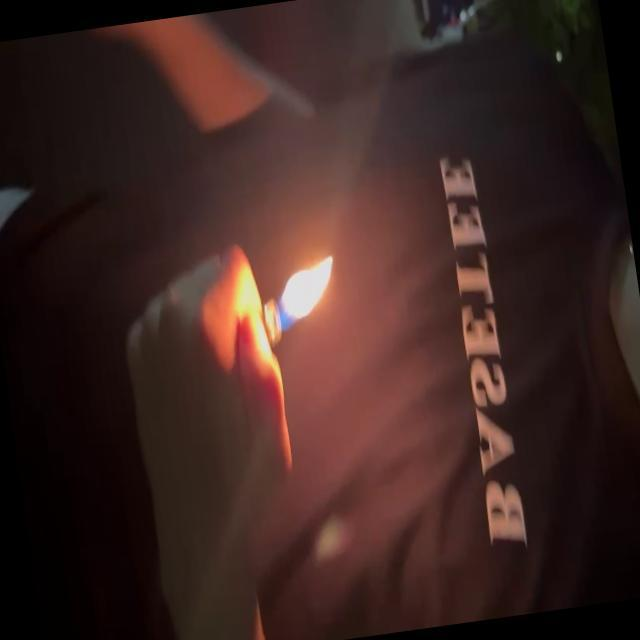Fire: (268, 250, 343, 333)
